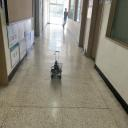cart: (51, 63, 62, 79)
